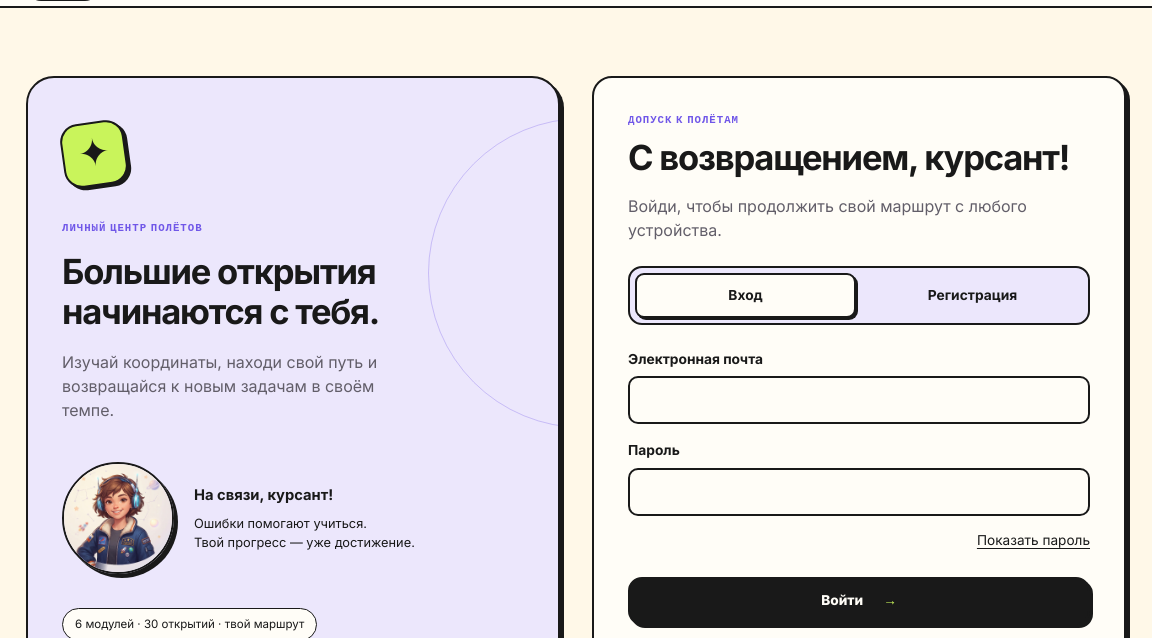
never uploads anonymous progress during login and requires a password to delete the account
Type "pilot@example.test" into the field labelled "Электронная почта" at (859, 400), box [628,376,1090,424]
Type "password" into the password field labelled "Пароль" at (859, 492), box [628,468,1090,516]
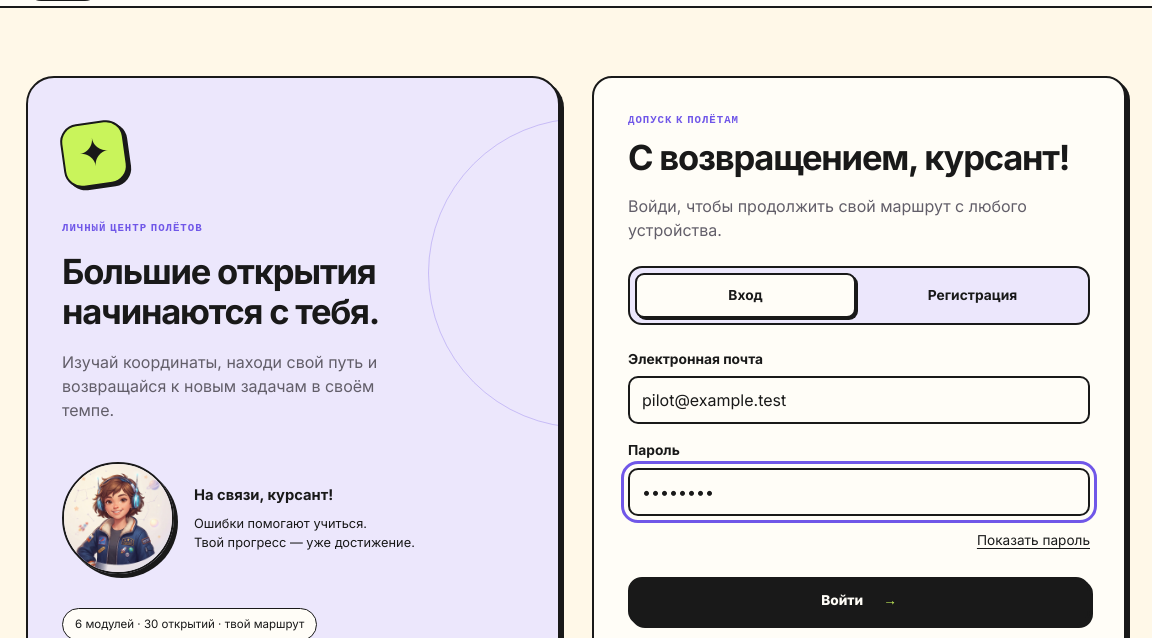
Click the button "Войти →" at (859, 600), box [628,576,1090,624]
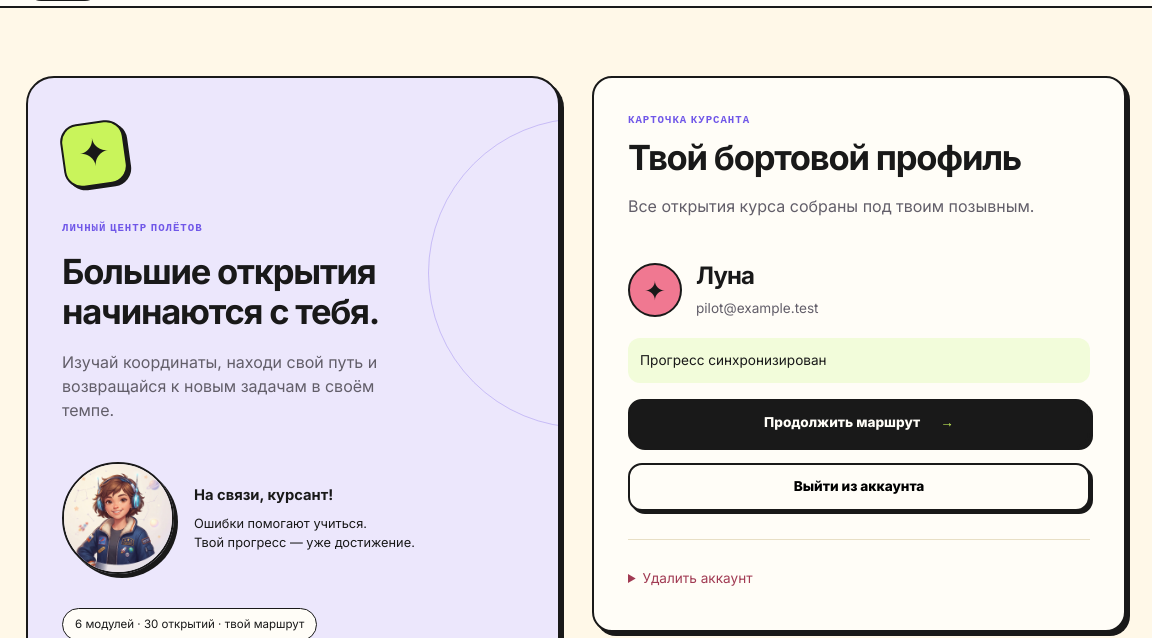
Expected: the heading "Луна" is shown, [696,261,754,290]
Click the heading "Удалить аккаунт" at (697, 578), box [642,570,752,586]
(page scrolled)
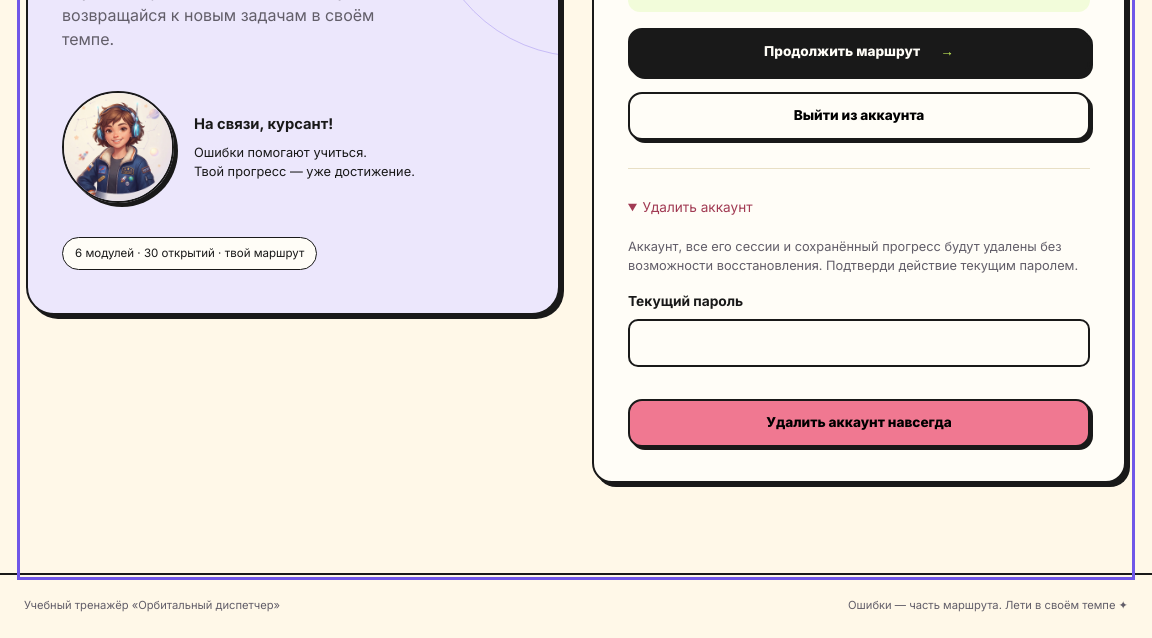
Click the button "Удалить аккаунт навсегда" at (859, 423), box [628,399,1090,447]
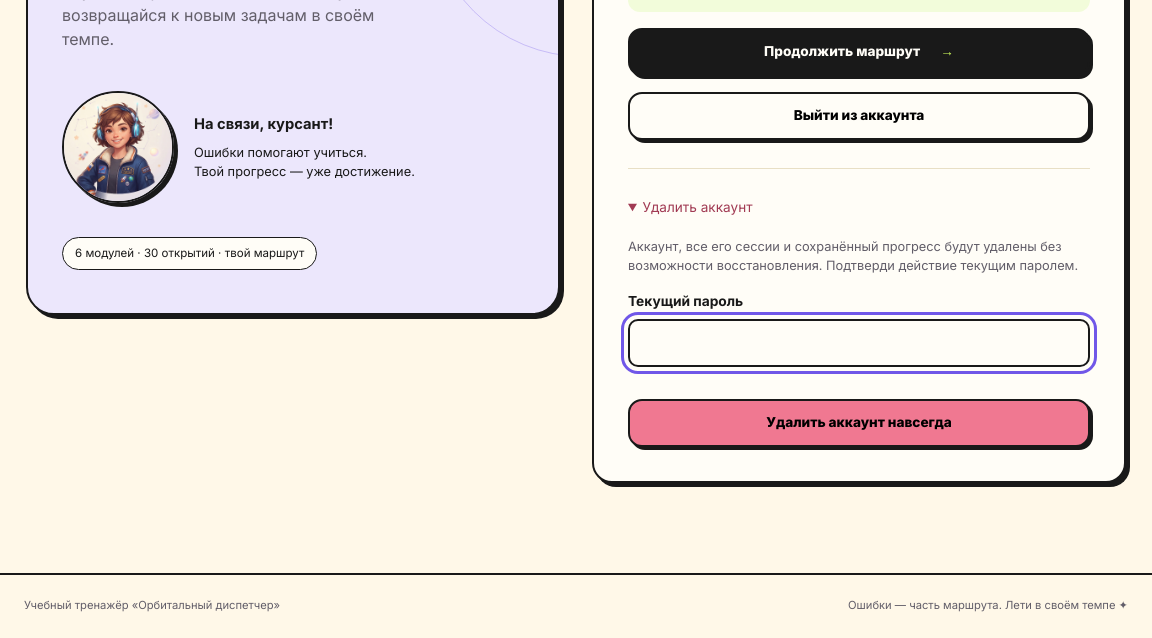
Type "password" into the password field labelled "Текущий пароль" at (859, 343), box [628,319,1090,367]
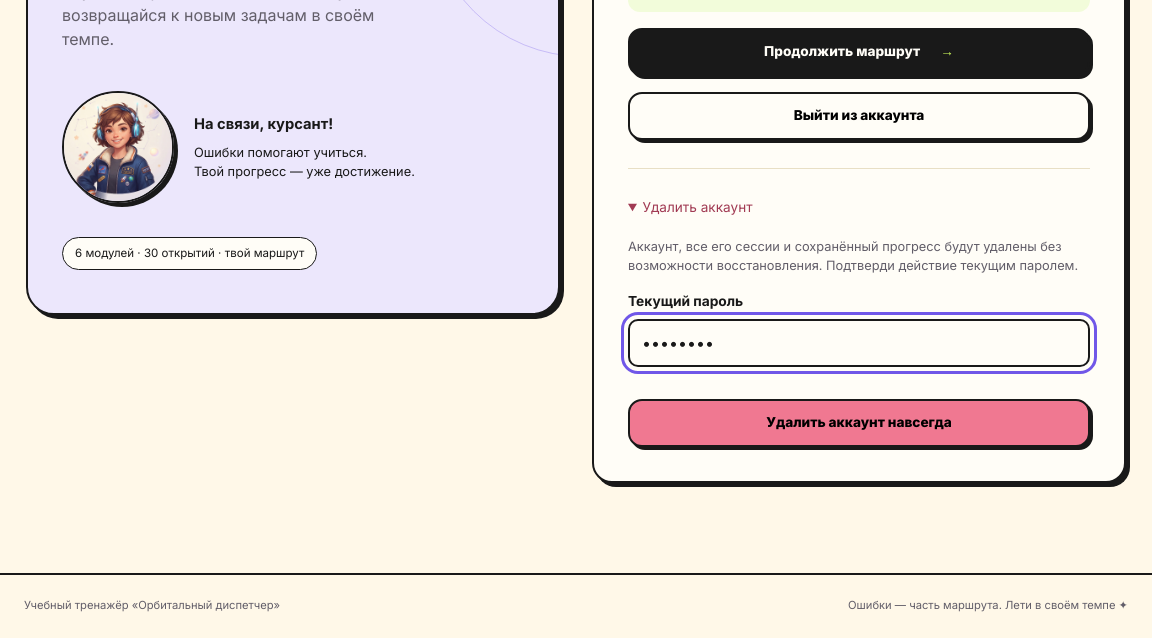
Click the button "Удалить аккаунт навсегда" at (859, 423), box [628,399,1090,447]
(page scrolled)
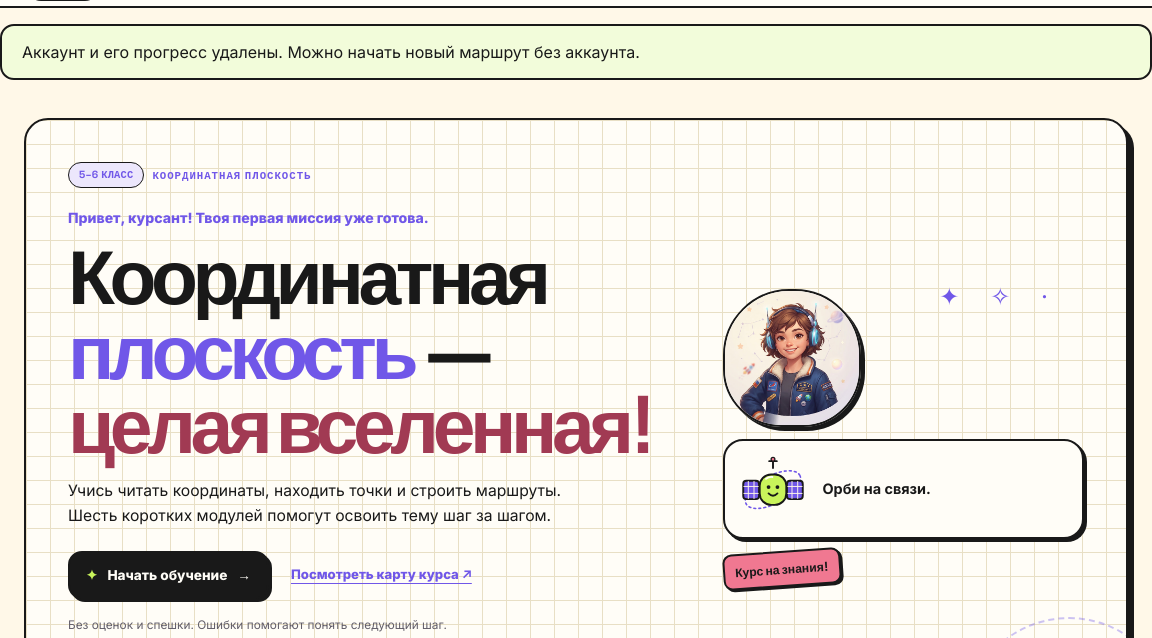
Expected: the text "Аккаунт и его прогресс удалены. Можно начать новый маршрут без аккаунта." is shown, [0,24,1151,80]
